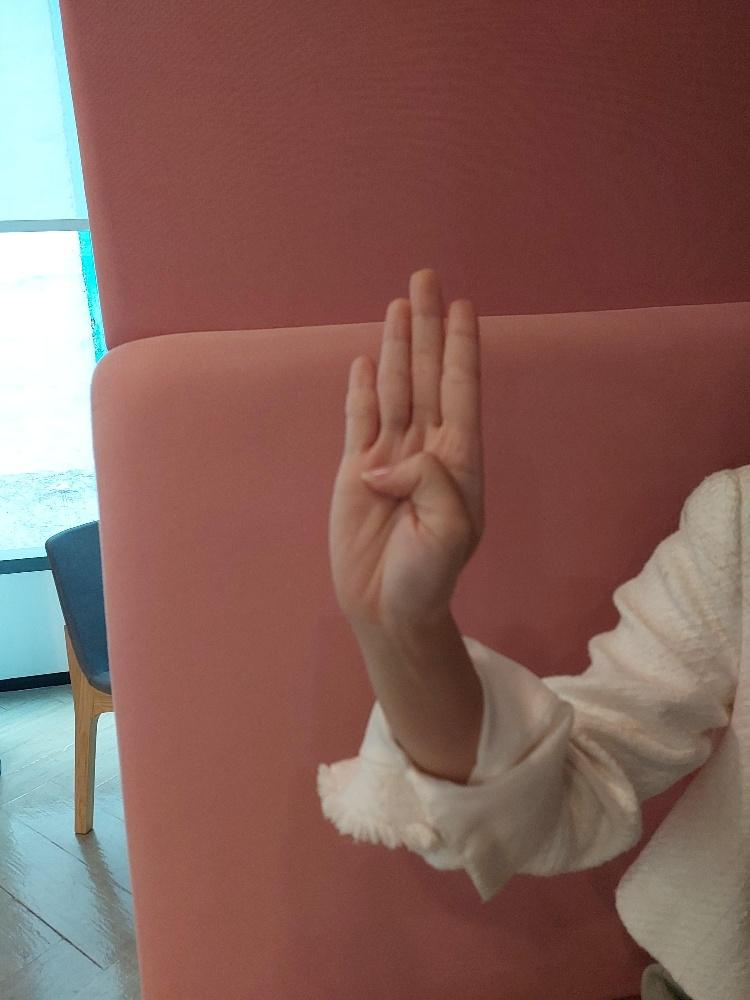b: (327, 266, 487, 605)
